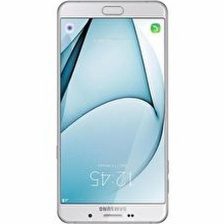phone: (54, 0, 174, 224)
